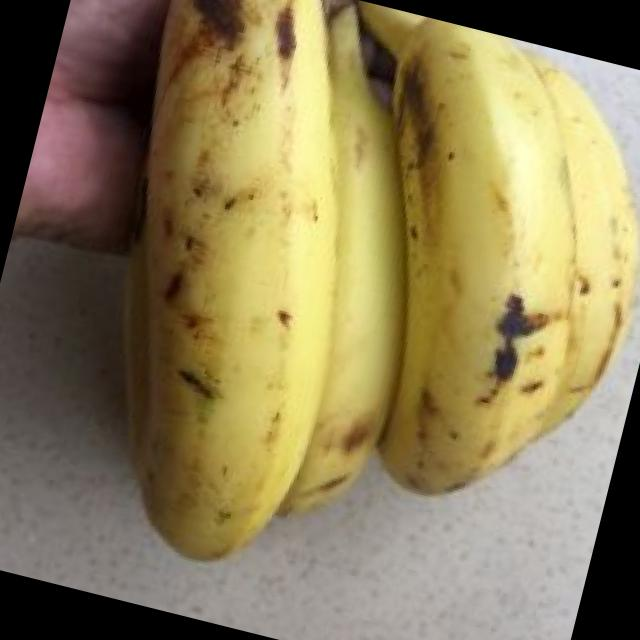banana: (101, 51, 521, 512)
